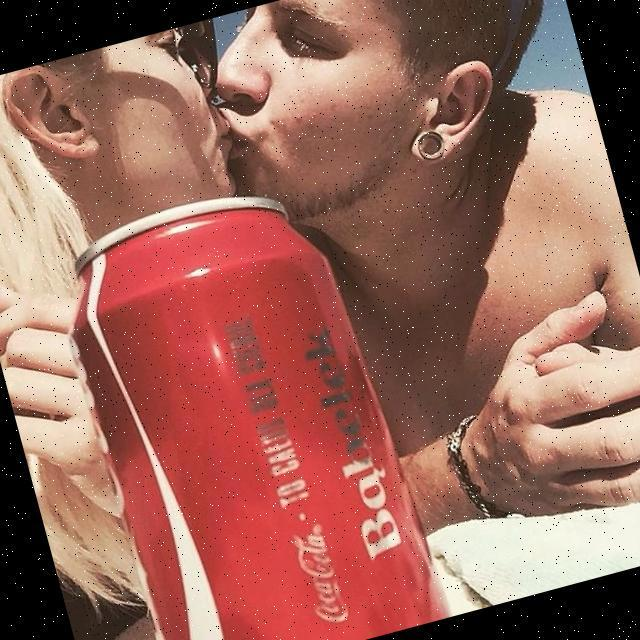coca-cola: (37, 160, 454, 640)
